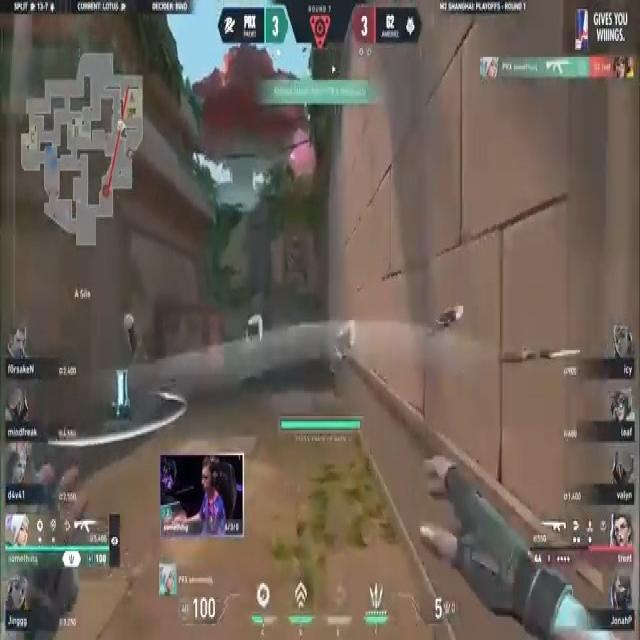spike-planted: (104, 352, 135, 434)
